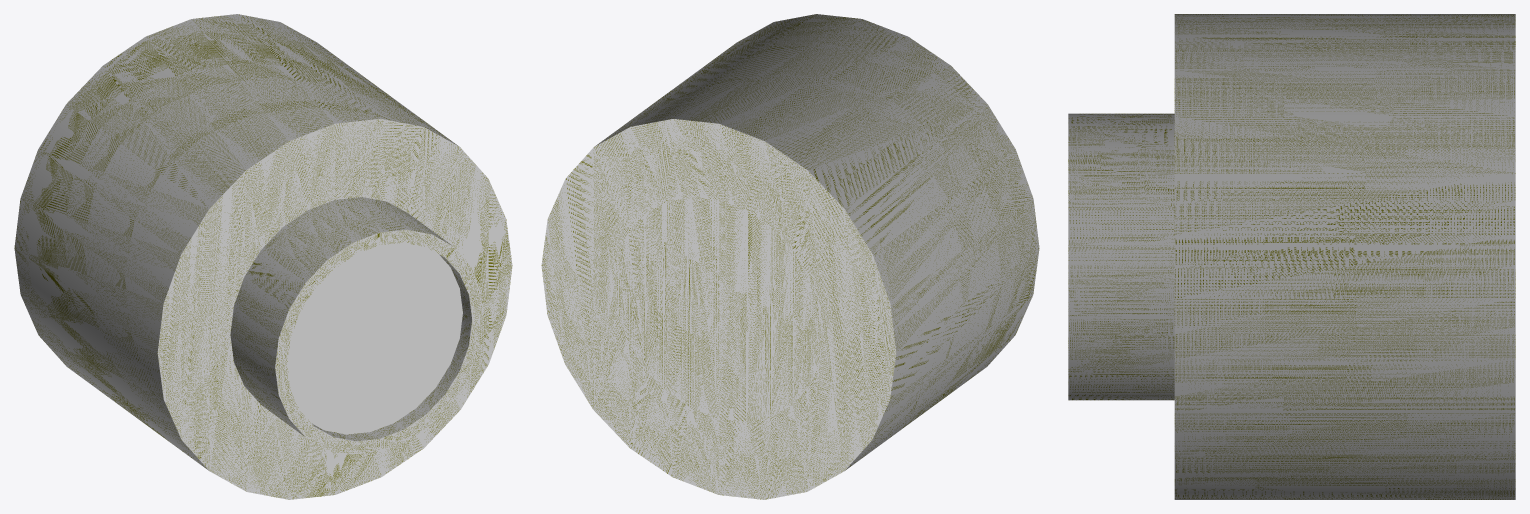
File: model_scale.obj
3 renders of one model, left to right at view 1: azimuth 30°, elevation 25°; view 2: azimuth 150°, elevation 25°; view 3: azimuth 270°, elevation 25°, orthographic. The views are drawn at different scales.
Visible parts, largest first — view 1: mesh1_mesh1-geometry; view 2: mesh1_mesh1-geometry; view 3: mesh1_mesh1-geometry.
Boxes of the visible parts, box(x1,y1,x2,y2) form: mesh1_mesh1-geometry: box(14, 14, 512, 499); mesh1_mesh1-geometry: box(541, 14, 1039, 499); mesh1_mesh1-geometry: box(1068, 14, 1515, 499).
Size of the model in its own units: 0.138 by 0.138 by 0.1265.
